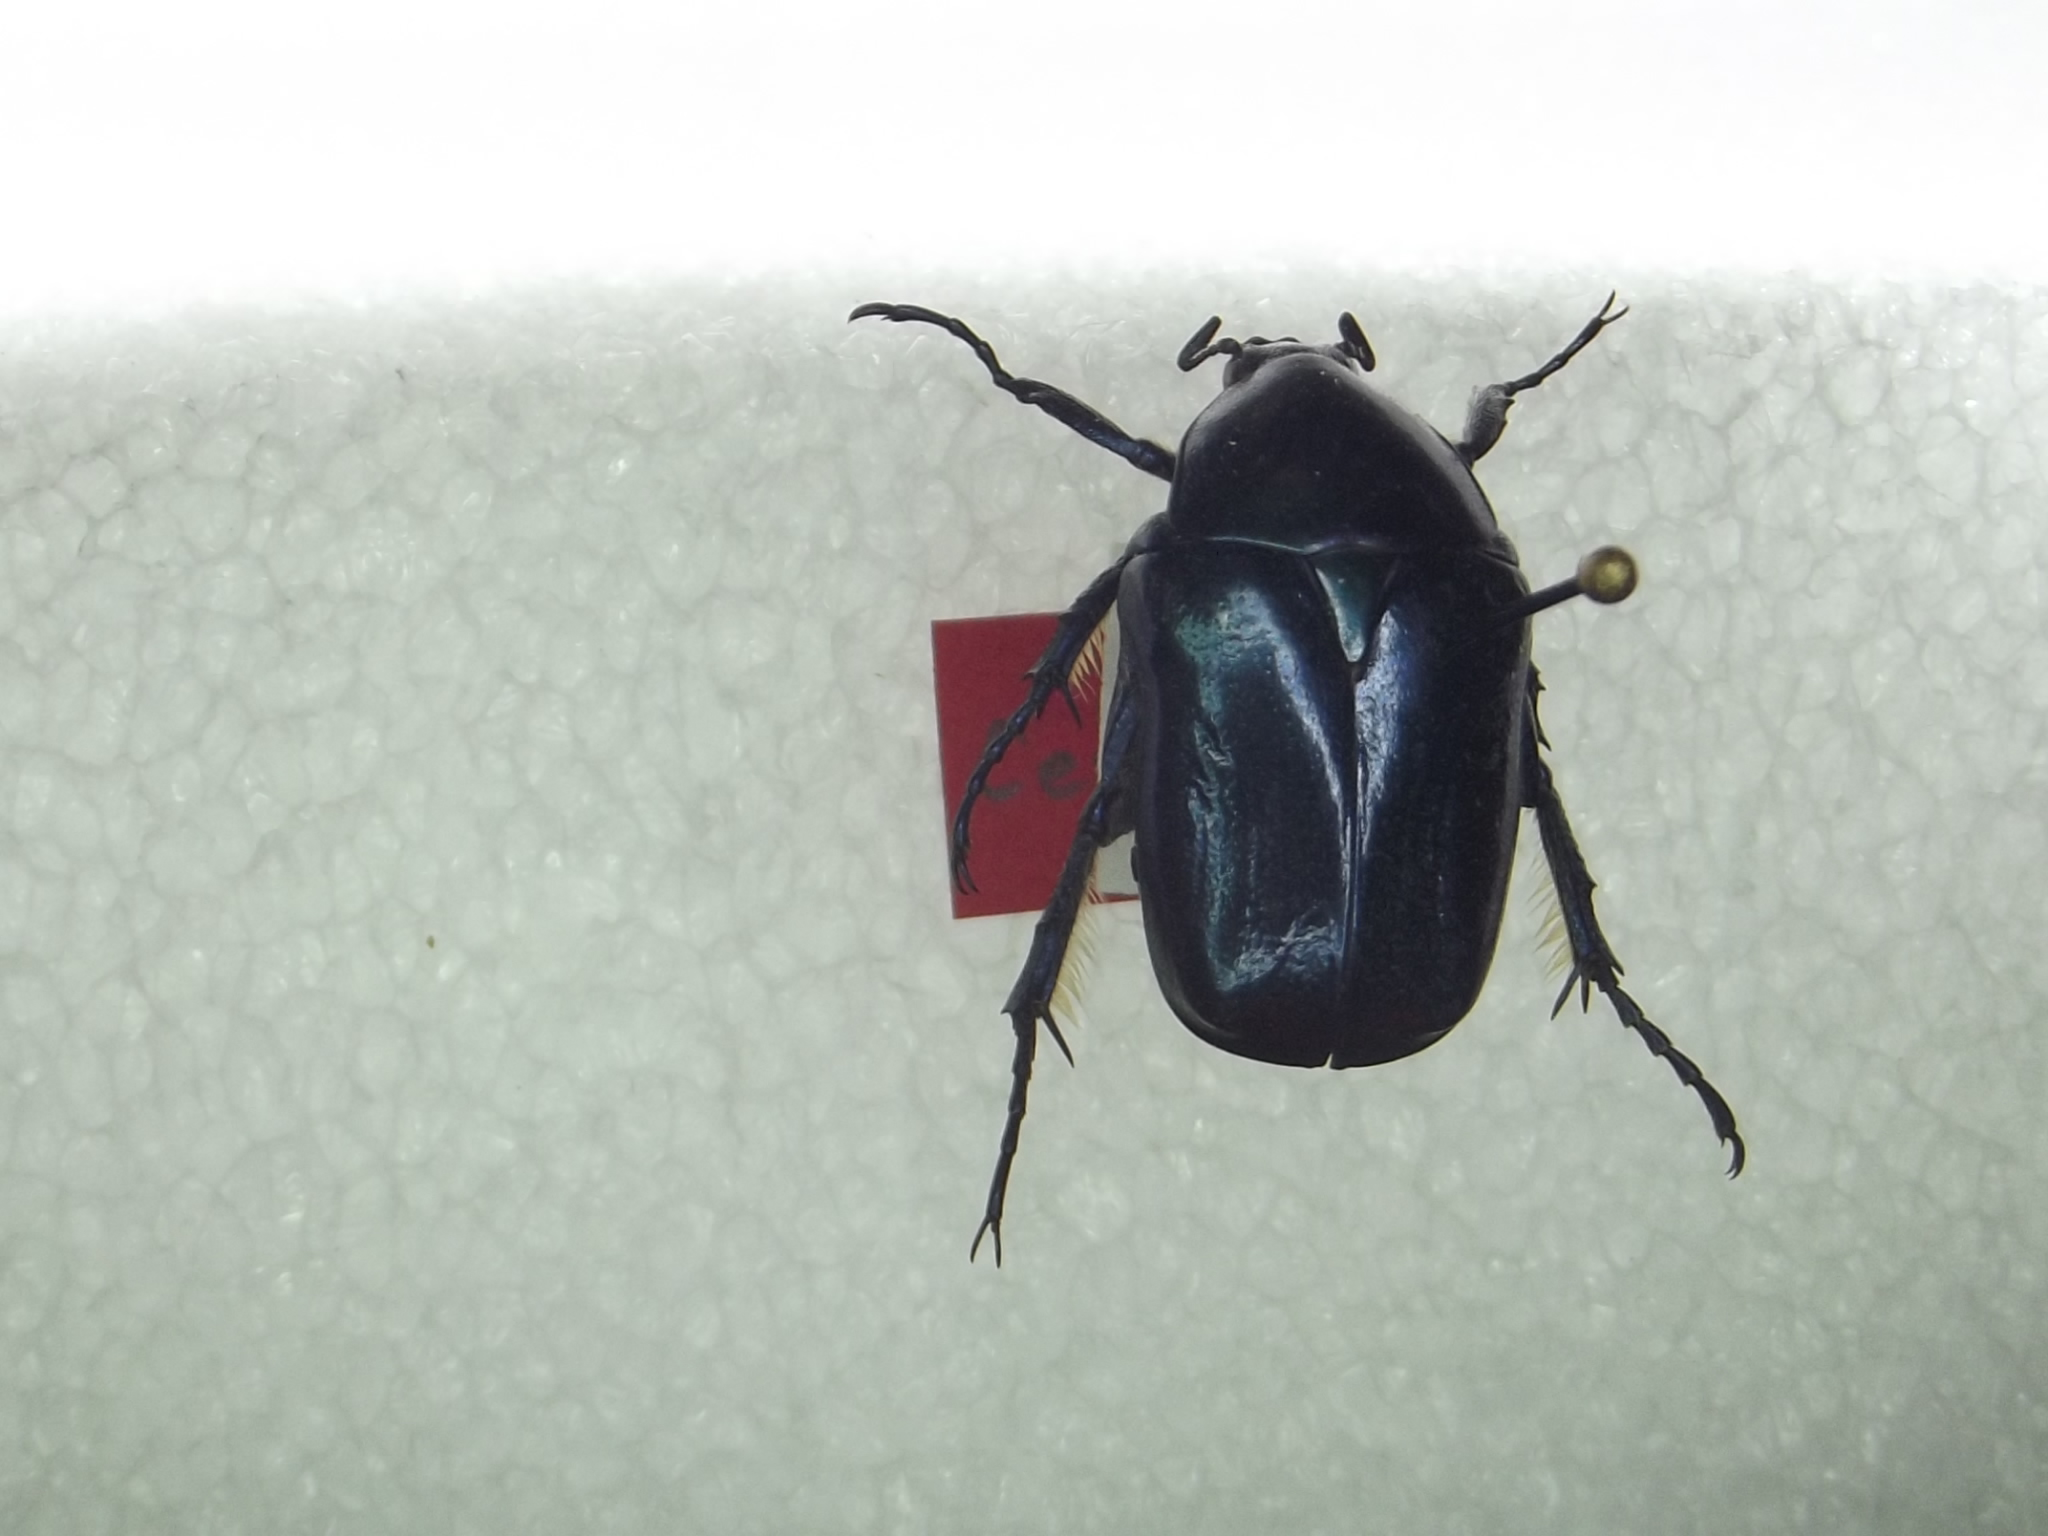Protaetia_besucheti: (805, 260, 1767, 1294)
